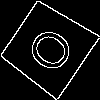O: (24, 23, 85, 82)
